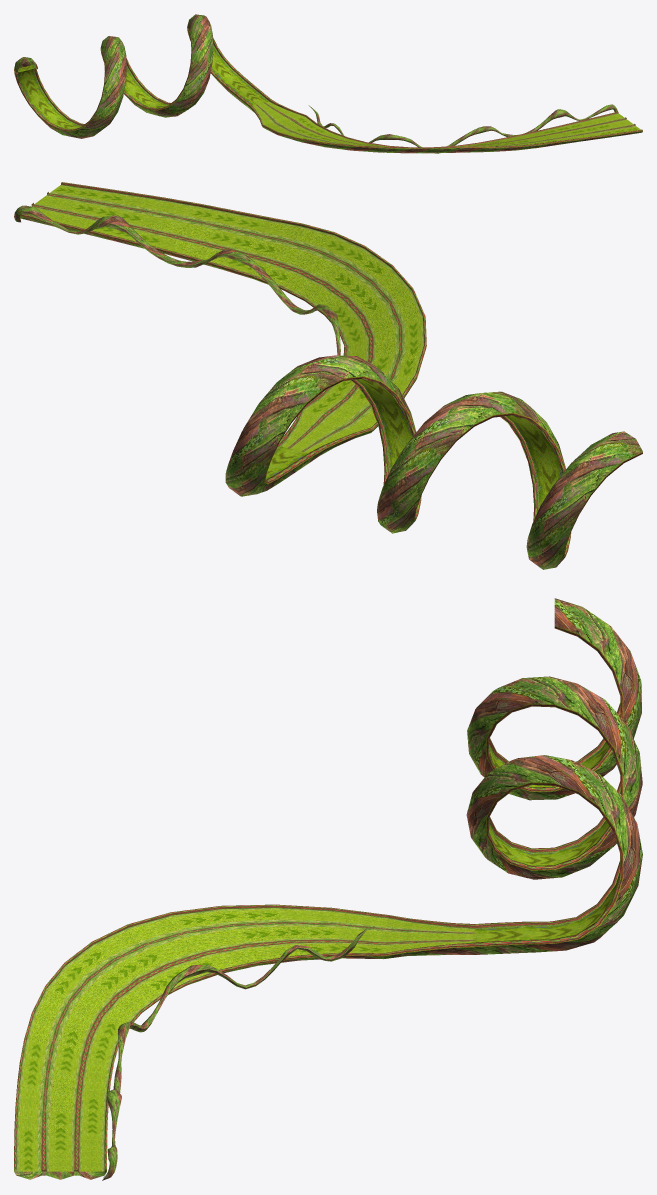
The model's file is Frog Forest 12.fbx.
3 renders of one model, top to bottom at view 1: azimuth 30°, elevation 25°; view 2: azimuth 150°, elevation 25°; view 3: azimuth 270°, elevation 25°, orthographic. The views are drawn at different scales.
Visible parts, largest first — view 1: Object_2.019, Object_2.018; view 2: Object_2.018, Object_2.019; view 3: Object_2.018, Object_2.019.
Part boxes in pixels (x1=…): Object_2.019: x1=14, y1=14, x2=642, y2=153; Object_2.018: x1=17, y1=45, x2=640, y2=146; Object_2.018: x1=25, y1=185, x2=562, y2=509; Object_2.019: x1=14, y1=182, x2=642, y2=569; Object_2.018: x1=16, y1=714, x2=620, y2=1171; Object_2.019: x1=14, y1=598, x2=642, y2=1180.
Bounding box in the file's own units: 223173 × 39145 × 135374.
